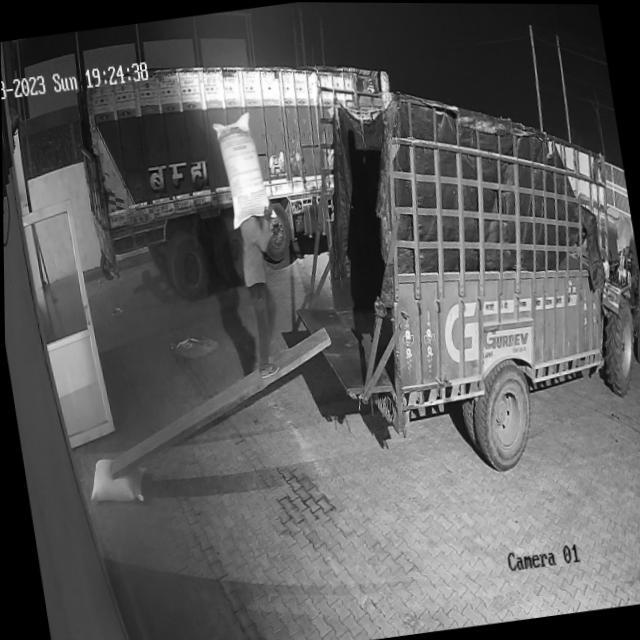sack: (210, 109, 276, 230), (83, 452, 147, 509)
